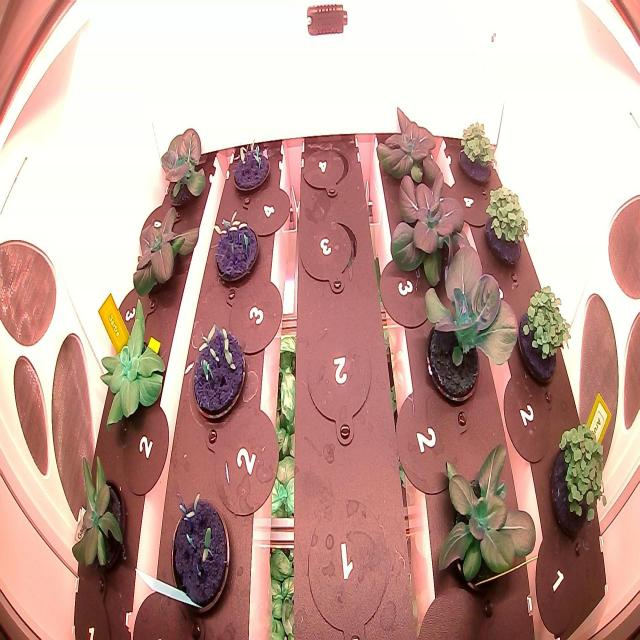empty_pod: (299, 491, 396, 633), (301, 317, 382, 449), (293, 210, 363, 303), (296, 137, 359, 208)
germination: (164, 483, 236, 628), (182, 315, 251, 433), (209, 207, 260, 291), (227, 137, 274, 201)
young: (426, 432, 543, 610), (416, 233, 524, 422), (384, 153, 484, 300), (94, 288, 168, 432), (64, 443, 132, 588), (368, 90, 449, 203), (125, 193, 206, 305), (154, 115, 214, 217)
